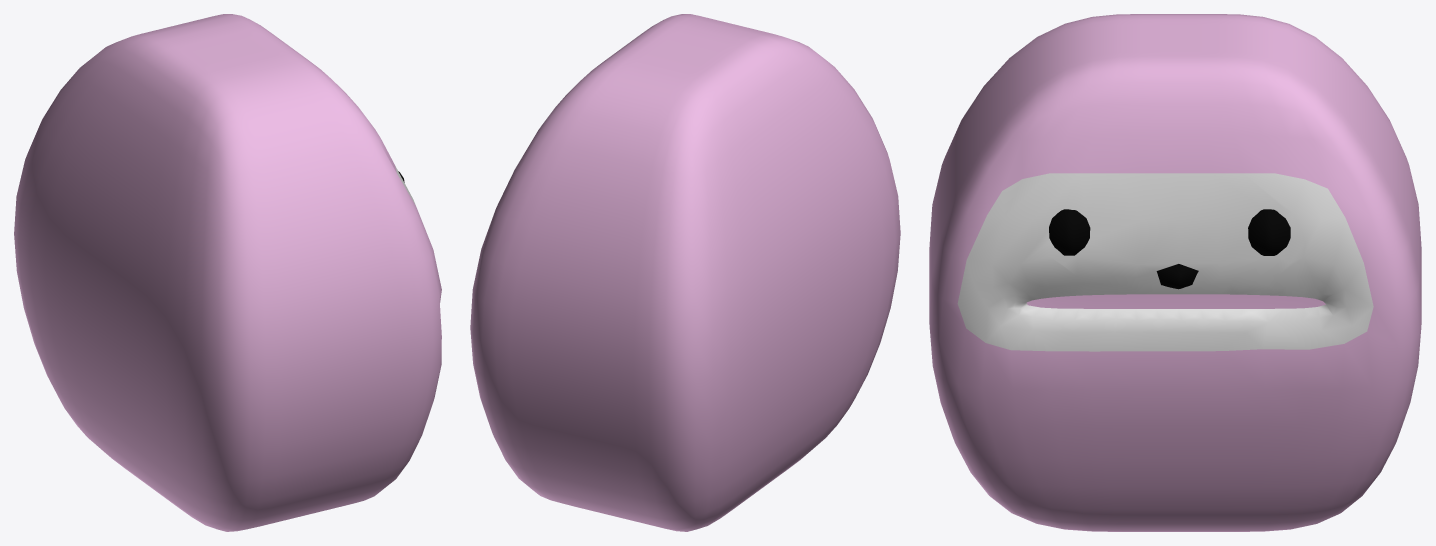
File: PlushieBaseIzmena.fbx
3 renders of one model, left to right at view 1: azimuth 30°, elevation 25°; view 2: azimuth 150°, elevation 25°; view 3: azimuth 270°, elevation 25°, orthographic. The views are drawn at different scales.
Parts seen in each view (by area): view 1: Sphere.003; view 2: Sphere.003; view 3: Sphere.003.
Part boxes in pixels (x1=…): Sphere.003: x1=14, y1=14, x2=441, y2=531; Sphere.003: x1=470, y1=14, x2=900, y2=531; Sphere.003: x1=929, y1=14, x2=1421, y2=531.
Size of the model in its own units: 80.17 by 132 by 127.
